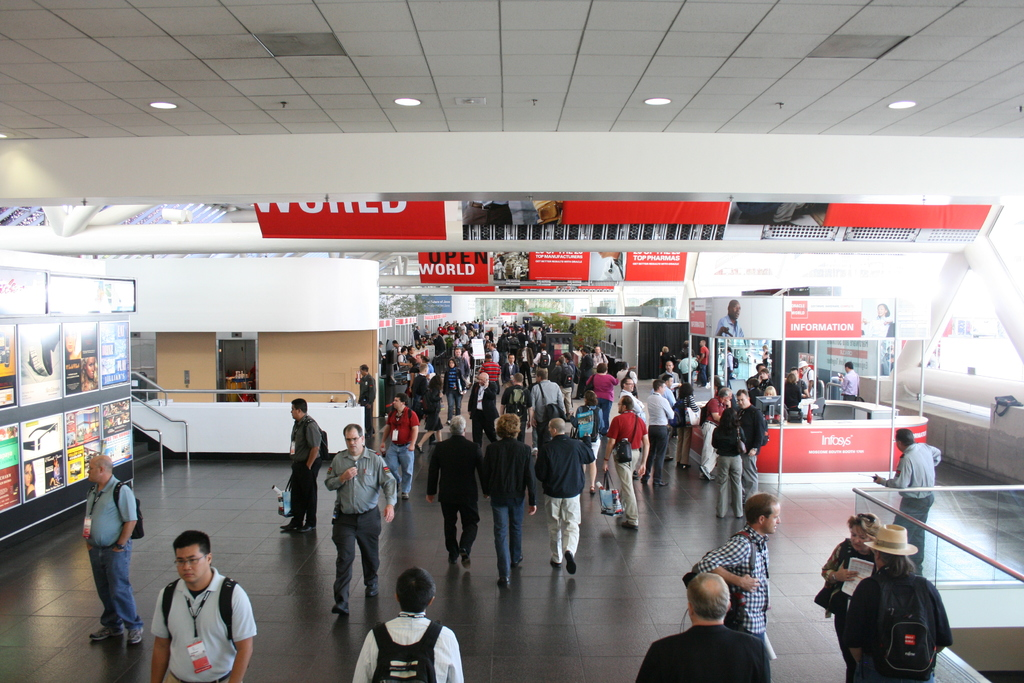Person: (17, 200, 952, 682)
